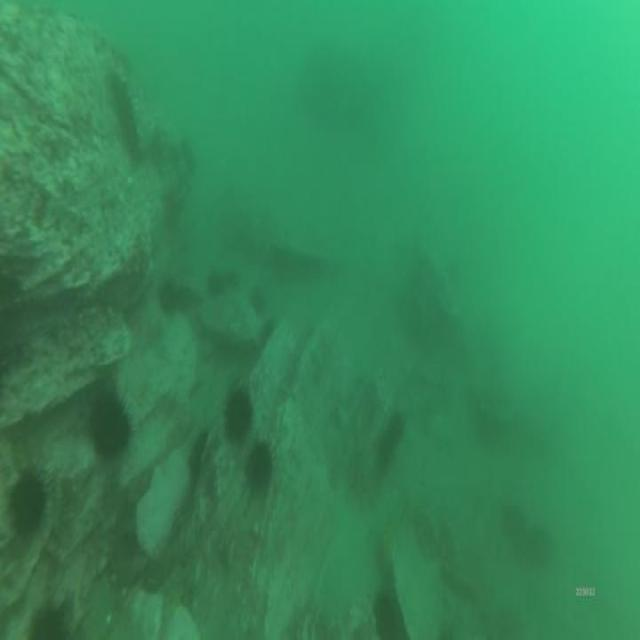echinus: (6, 463, 50, 550), (87, 394, 136, 464), (220, 386, 255, 454), (241, 438, 276, 498), (25, 600, 75, 640), (524, 518, 556, 572), (498, 499, 527, 552), (370, 591, 400, 640), (186, 430, 210, 482), (372, 430, 397, 474), (382, 406, 404, 450), (158, 277, 180, 316), (256, 314, 276, 354), (246, 286, 268, 319), (206, 269, 226, 300), (175, 283, 194, 314), (224, 267, 242, 294)
